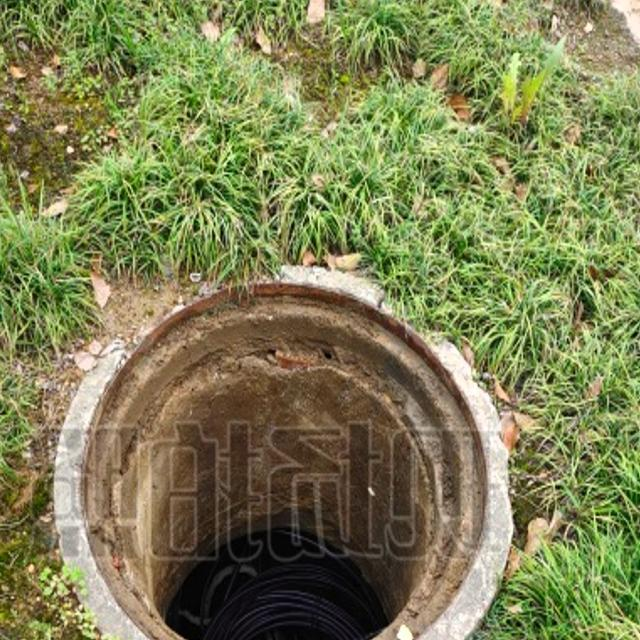lose: (53, 247, 520, 640)
